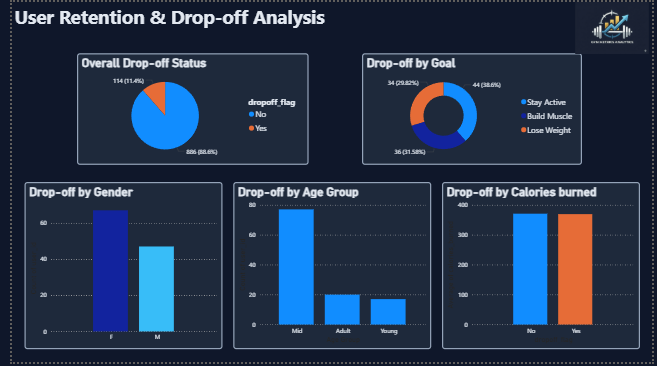

The page's visual inventory and layout, read from the dashboard file:
{"tool":"powerbi","page":{"name":"Page 4","canvas":[1280,720],"ordinal":3},"visuals":[{"type":"pieChart","title":"Overall Drop-off Status","fields":{"Category":["p-fitness.dropoff_flag"],"Y":["Count(p-fitness.user_id)"]},"box":[130,103.3,463.3,223.3],"z":0},{"type":"columnChart","title":"Drop-off by Age Group","fields":{"Category":["p-fitness.Age Group"],"Y":["Count(p-fitness.user_id)"]},"box":[441.4,360,395.7,334.3],"z":1000},{"type":"columnChart","title":"Drop-off by Gender","fields":{"Y":["Count(p-fitness.user_id)"],"Category":["p-fitness.gender"]},"box":[24.3,360,395.7,334.3],"z":2000},{"type":"donutChart","title":"Drop-off by Goal","fields":{"Category":["p-fitness.goal"],"Series":["p-fitness.dropoff_flag"],"Y":["Count(p-fitness.user_id)"]},"box":[700,103.3,440,223.3],"z":3000},{"type":"clusteredColumnChart","title":"Drop-off by Calories burned","fields":{"Category":["p-fitness.dropoff_flag"],"Y":["Avg(p-fitness.calories_burned)"]},"box":[860,360,395.7,334.3],"z":4000},{"type":"textbox","box":[0,0,640,60],"z":5000},{"type":"image","box":[1120,0,160,104],"z":5001}]}

Visuals, with their boxes in screenshot pixels (x1, y1, x2, y2), scaled from the page's 1280x720 canvas onto the 657x366 screenshot:
"Overall Drop-off Status" pieChart: {"left": 67, "top": 53, "right": 305, "bottom": 166}
"Drop-off by Age Group" columnChart: {"left": 227, "top": 183, "right": 430, "bottom": 353}
"Drop-off by Gender" columnChart: {"left": 12, "top": 183, "right": 216, "bottom": 353}
"Drop-off by Goal" donutChart: {"left": 359, "top": 53, "right": 585, "bottom": 166}
"Drop-off by Calories burned" clusteredColumnChart: {"left": 441, "top": 183, "right": 645, "bottom": 353}
textbox: {"left": 0, "top": 0, "right": 328, "bottom": 30}
image: {"left": 575, "top": 0, "right": 656, "bottom": 53}
